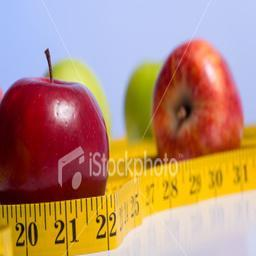apple: (1, 75, 110, 202), (148, 40, 243, 167)
